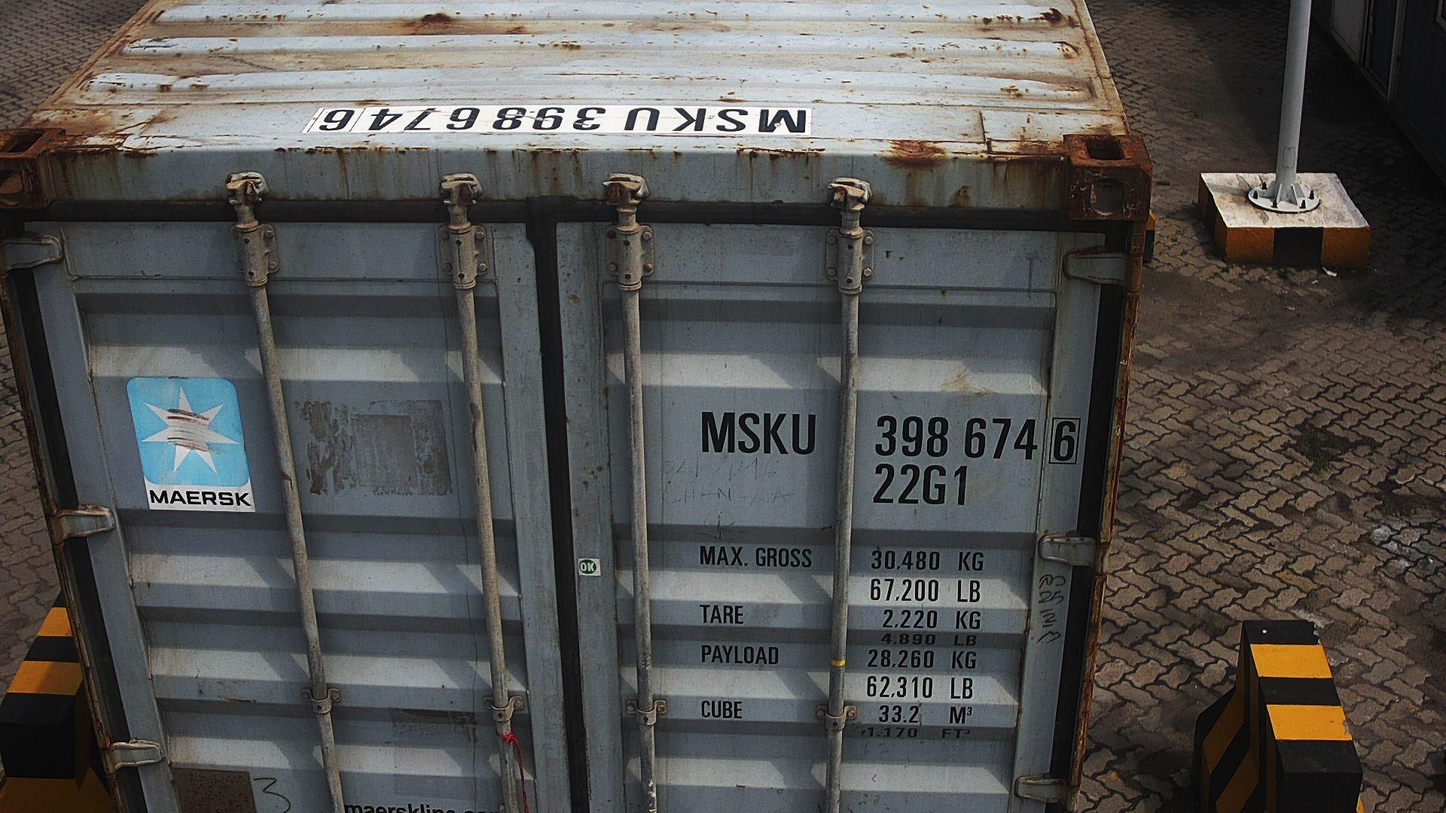container-numbers: (695, 408, 1092, 467), (305, 104, 816, 139), (867, 461, 974, 509)
